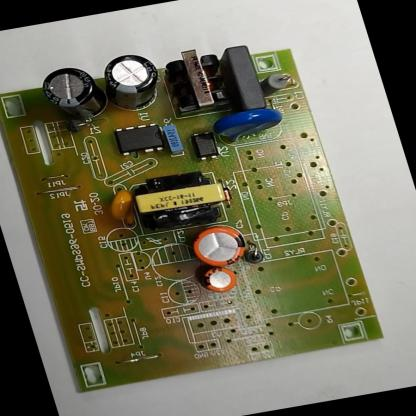Cap1: (182, 219, 255, 274)
Cap2: (195, 262, 243, 297)
Cap3: (90, 47, 170, 115)
Cap4: (32, 57, 115, 127)
MOSFET: (107, 118, 172, 160)
Mov: (207, 102, 291, 146)
Resistor: (256, 68, 294, 98)
Transformer: (123, 162, 236, 238), (156, 43, 236, 119)
